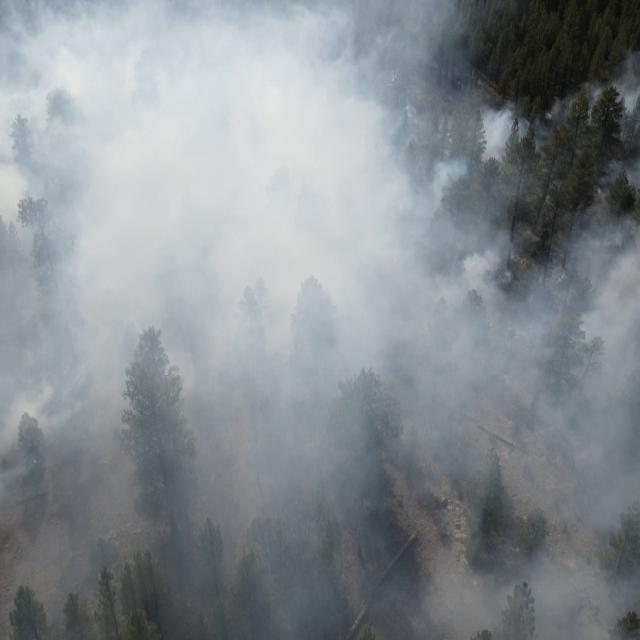smoke: (0, 0, 490, 640), (490, 204, 640, 640), (488, 85, 566, 201), (614, 58, 640, 204), (566, 86, 614, 126), (592, 160, 614, 202)
